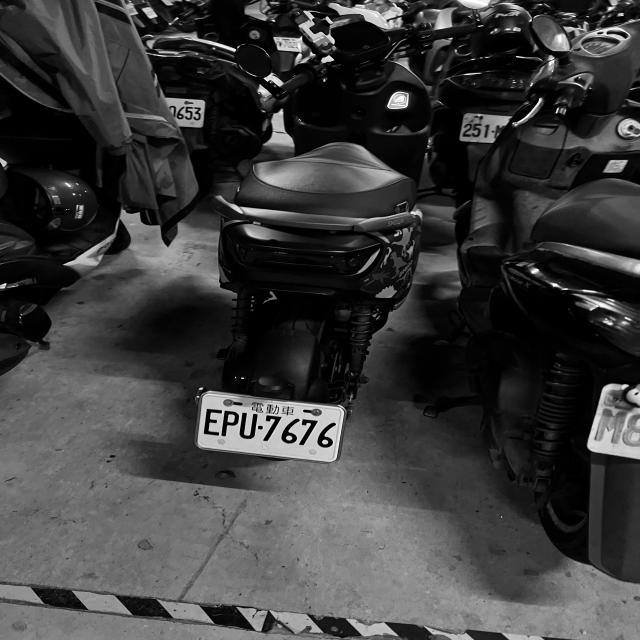-: (257, 425, 263, 431), (490, 130, 496, 135)
1: (482, 124, 492, 139)
2: (461, 123, 473, 138)
3: (192, 106, 203, 121)
5: (471, 123, 483, 138), (184, 106, 194, 121)
6: (277, 417, 302, 447), (314, 421, 338, 451), (176, 106, 186, 120)
7: (261, 414, 284, 443), (297, 418, 320, 447), (261, 414, 283, 442)
E: (201, 407, 224, 437)
M: (591, 407, 631, 448)
U: (238, 412, 261, 440)
plate: (197, 396, 343, 461), (219, 409, 242, 438)
